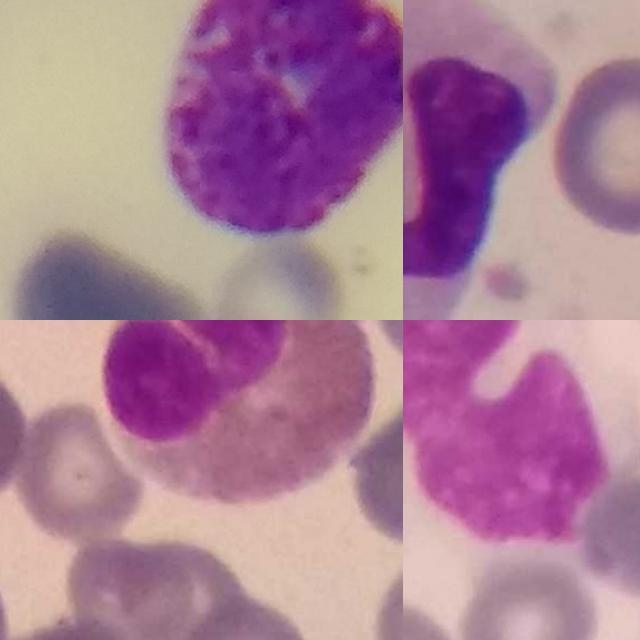Basophil: (160, 0, 403, 240)
Eosinophil: (101, 320, 374, 511)
Monocyte: (403, 320, 635, 547), (403, 0, 560, 320)
